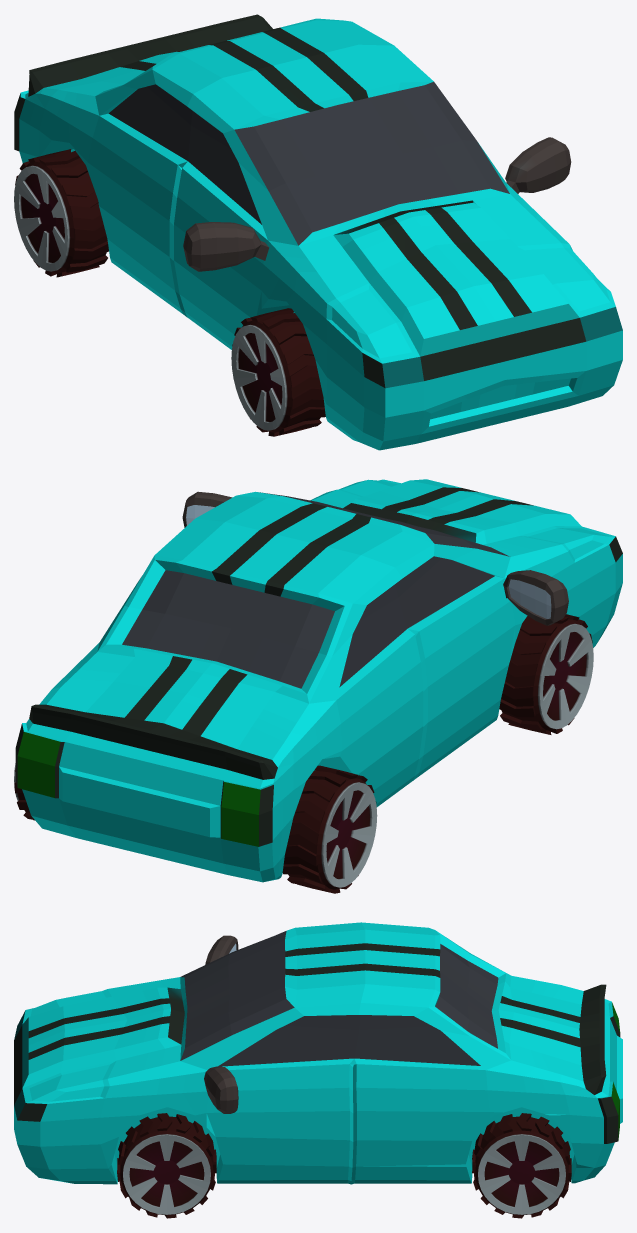
File: машинка 7.fbx
The picture shows the model from 3 angles, top to bottom: view 1: azimuth 30°, elevation 25°; view 2: azimuth 150°, elevation 25°; view 3: azimuth 270°, elevation 25°; orthographic projection. The views are drawn at different scales.
Visible parts, largest first — view 1: Car2.005, Cylinder.001, Cylinder, Zerk2.005; view 2: Car2.005, Cylinder.001, Cylinder, Zerk2.005; view 3: Car2.005, Cylinder.003, Cylinder.002, Zerk2.005.
Part boxes in pixels (x1,y1,x2,y2): Car2.005: [14, 14, 622, 450]; Cylinder.001: [14, 149, 108, 277]; Cylinder: [231, 308, 325, 436]; Zerk2.005: [183, 137, 571, 271]; Car2.005: [15, 479, 622, 882]; Cylinder.001: [282, 765, 377, 893]; Cylinder: [499, 614, 593, 734]; Zerk2.005: [182, 491, 568, 625]; Car2.005: [14, 922, 622, 1184]; Cylinder.003: [117, 1113, 216, 1218]; Cylinder.002: [472, 1113, 571, 1218]; Zerk2.005: [204, 935, 238, 1113].
Bounding box in the file's own units: 355 × 218 × 601.
